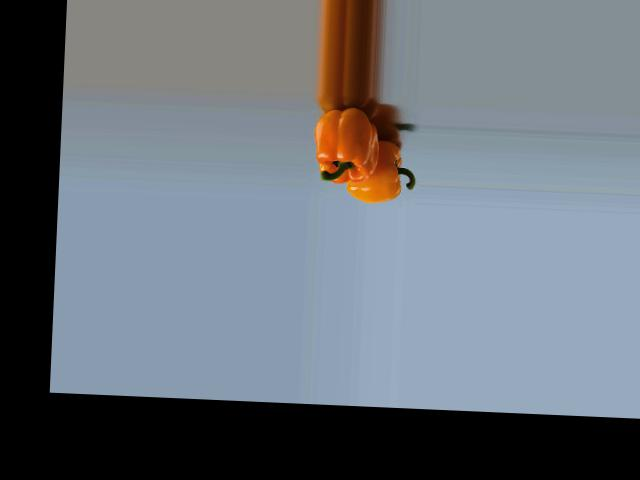bell_pepper: (343, 127, 416, 205)
